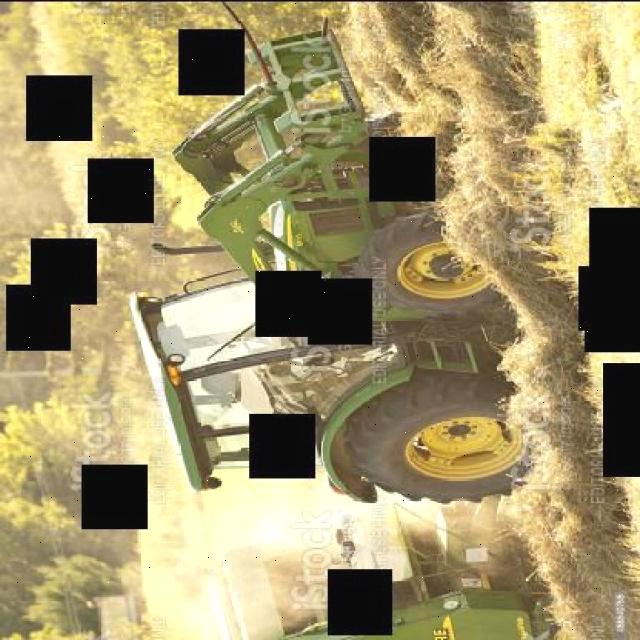Tratores - v5 YOLO V8L 2024-11-13: (133, 266, 572, 506)
